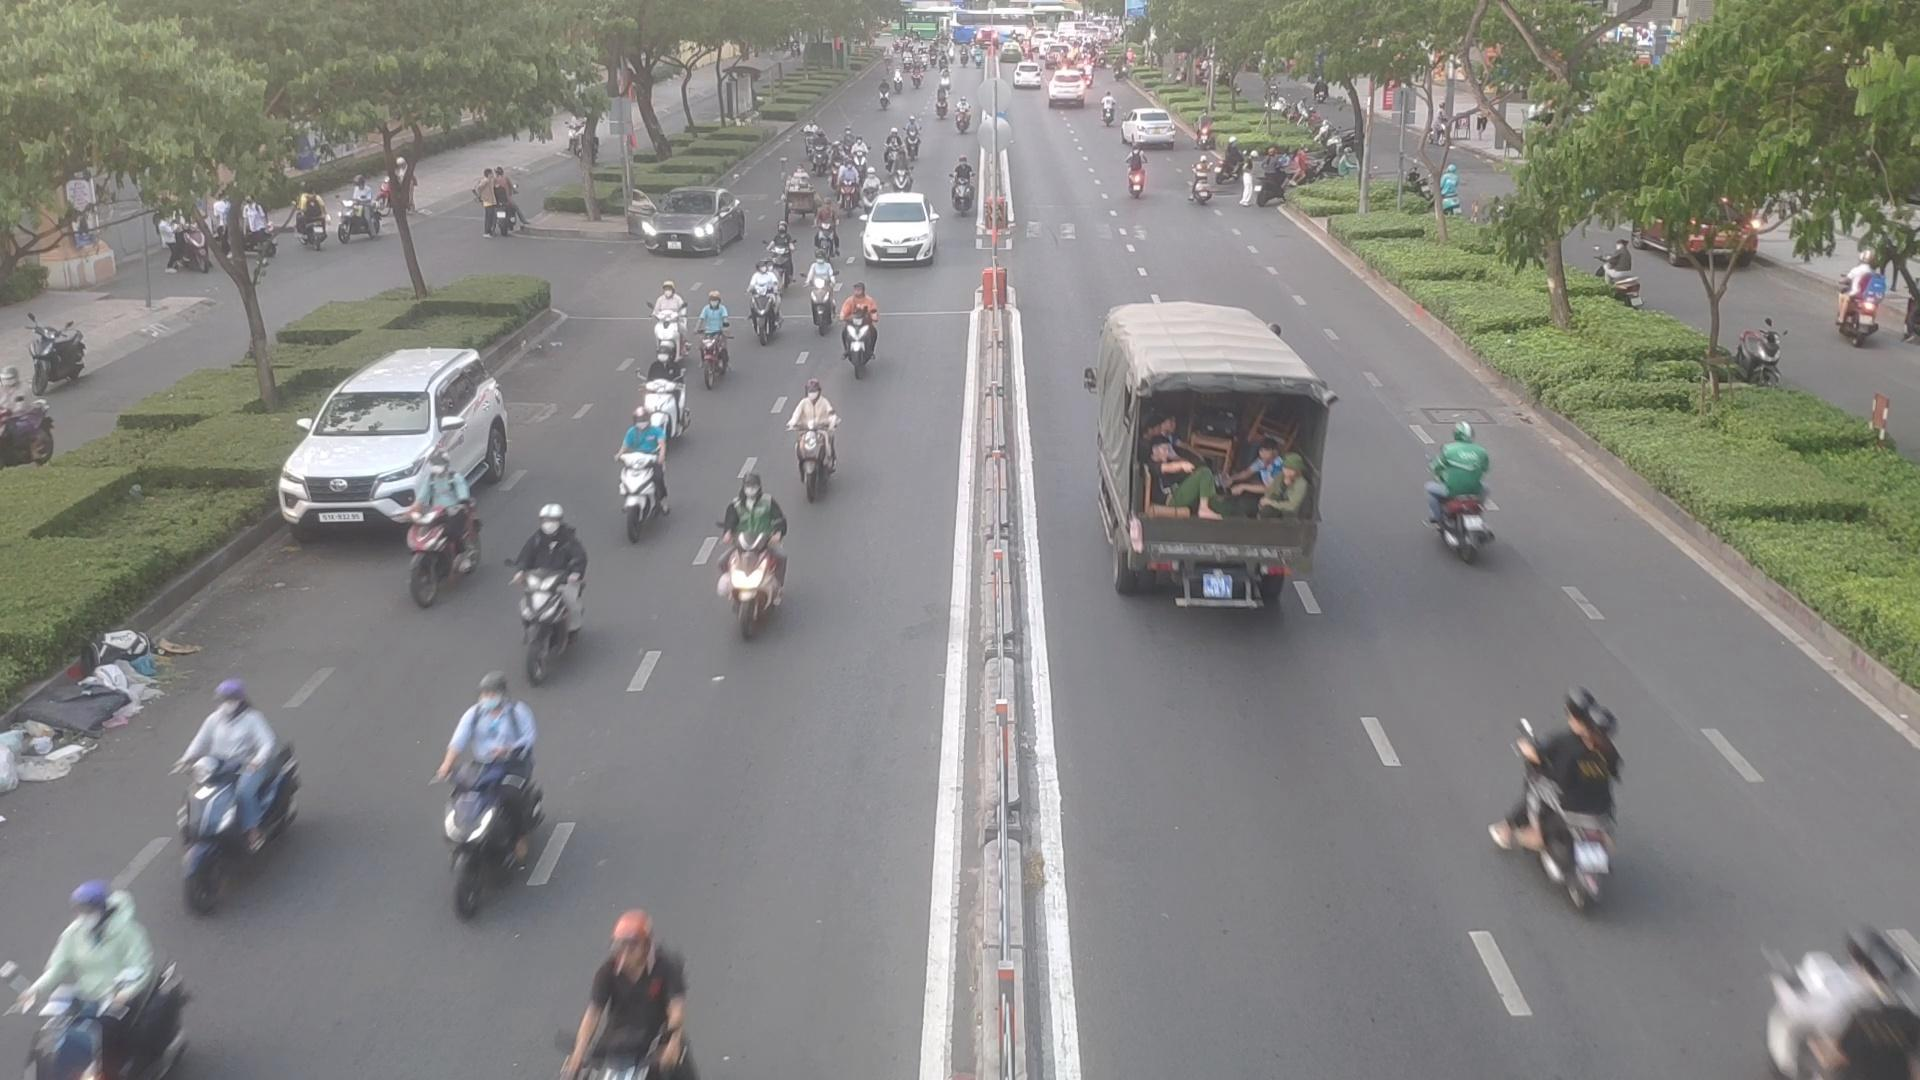car: (1071, 297, 1335, 650), (274, 348, 514, 538), (630, 190, 750, 261), (855, 194, 934, 265)
motorbike: (0, 881, 199, 1080), (1497, 671, 1625, 944), (436, 680, 578, 913), (152, 670, 297, 880), (524, 915, 695, 1080), (724, 479, 804, 647), (385, 455, 480, 597), (527, 506, 589, 680), (1432, 411, 1484, 556), (607, 413, 655, 522), (794, 386, 845, 483), (837, 291, 884, 375), (651, 344, 684, 439), (698, 287, 732, 378), (651, 284, 679, 369), (745, 255, 773, 335), (764, 219, 795, 281), (953, 152, 975, 218), (1126, 145, 1147, 204), (901, 119, 924, 164), (816, 204, 833, 255), (1193, 156, 1209, 208), (862, 167, 881, 212), (816, 256, 827, 330), (891, 152, 910, 194), (851, 138, 869, 175), (814, 129, 829, 167), (799, 119, 815, 157), (829, 140, 843, 185), (884, 131, 901, 165), (837, 164, 848, 204)
